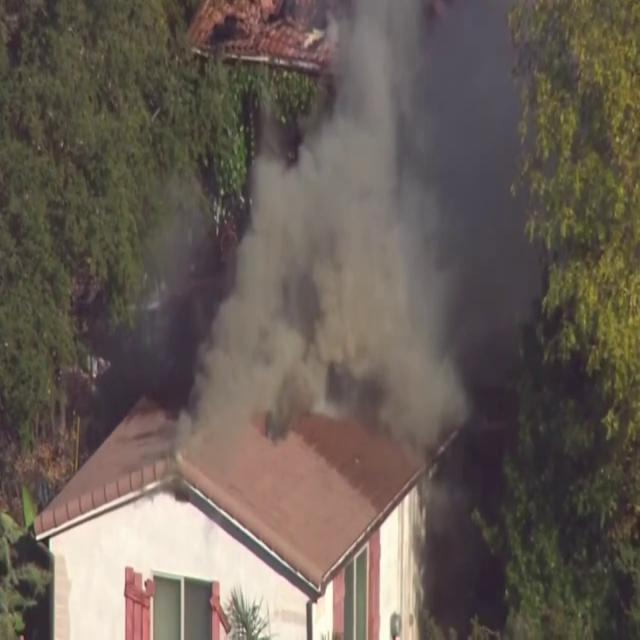Smoke: (185, 0, 558, 456)
